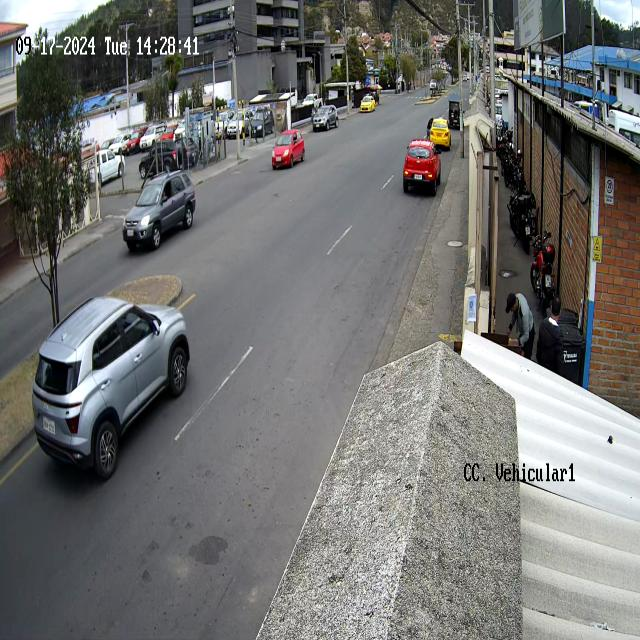SED: (272, 128, 305, 168)
SUV: (27, 293, 190, 480), (123, 171, 196, 255), (403, 137, 442, 198)
